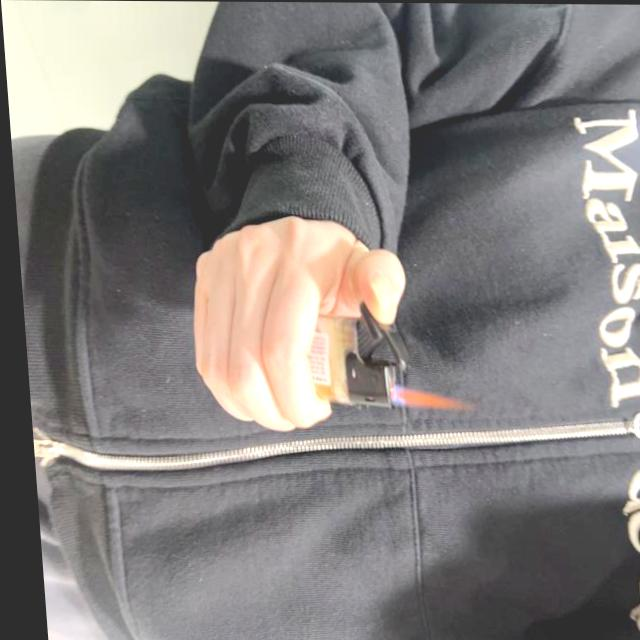Fire: (382, 384, 472, 410)
